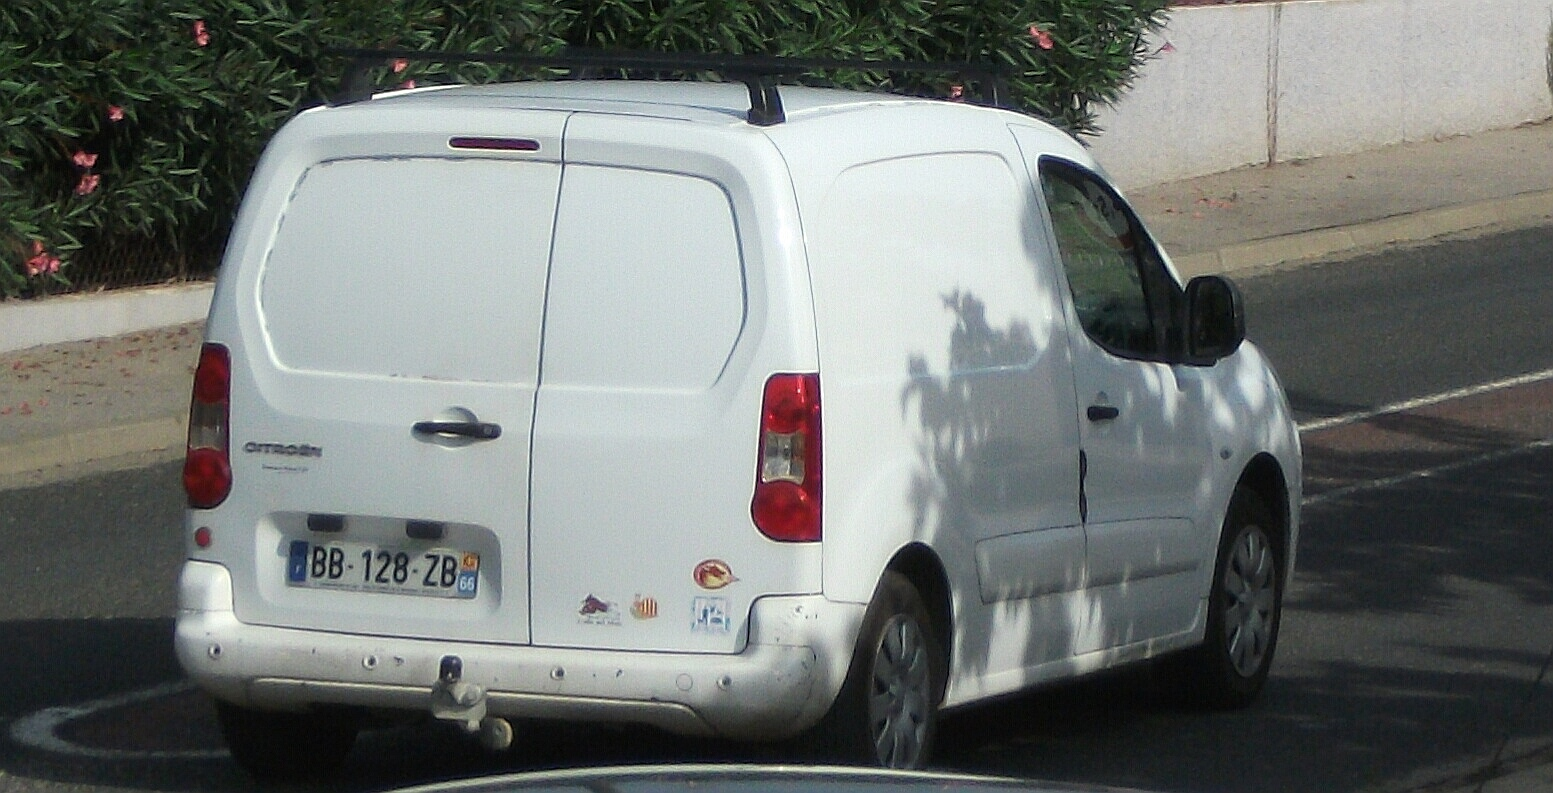licence plate: (283, 536, 482, 604)
